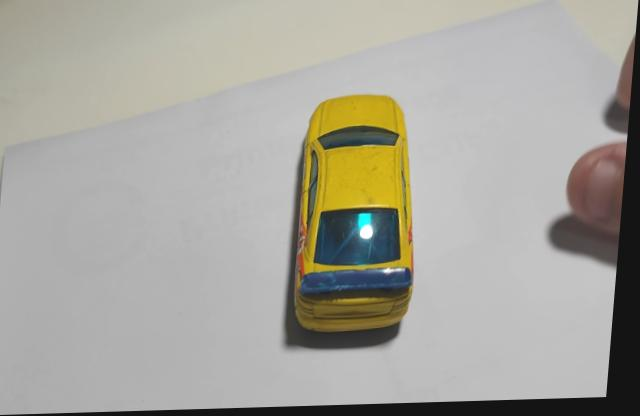02_OZSOME: (293, 97, 420, 352)
